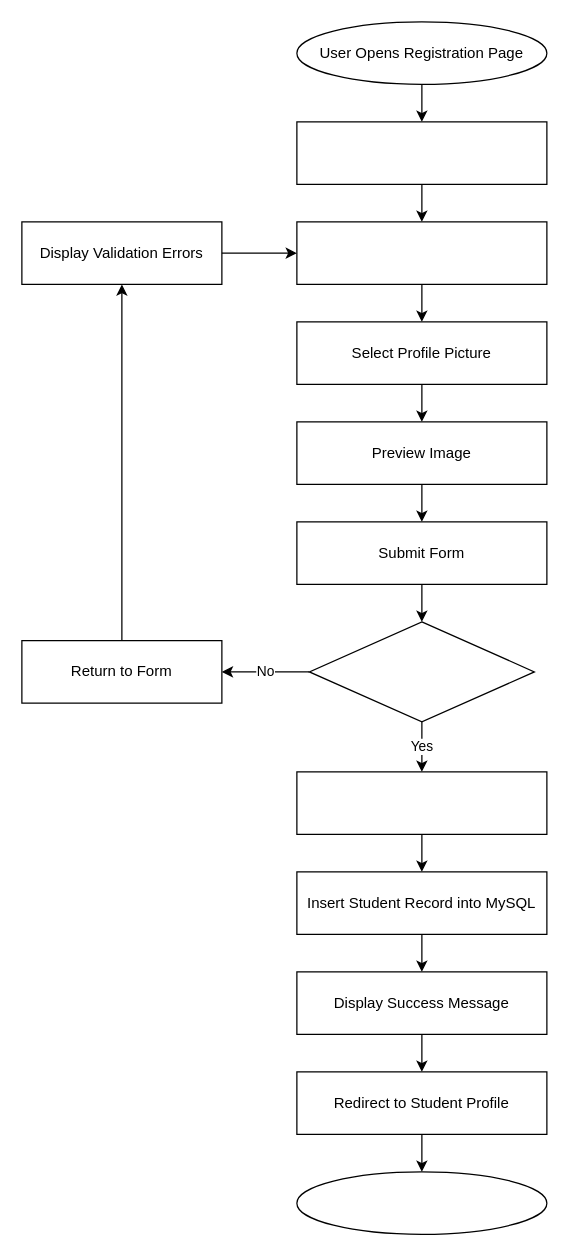
The diagram is 569 pixels wide and 1256 high, and some of its shapes have lost their labels. Each missing label, with the box of its shape:
Display Registration Form: (296, 121, 547, 184)
Display Student Information: (296, 1171, 547, 1234)
Fill in Student Information: (296, 221, 547, 284)
Laravel Validation: (308, 621, 534, 722)
Upload Profile Picture: (296, 771, 547, 834)
